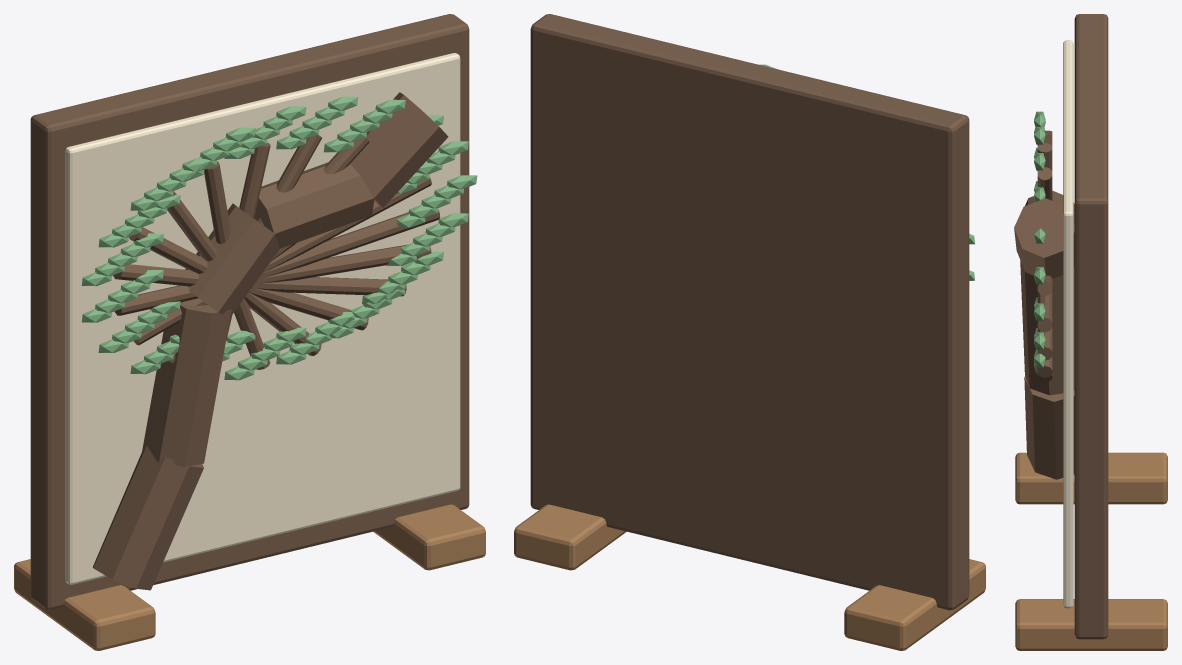
The model's file is noh_stage_pine_panel.glb.
The picture shows the model from 3 angles, left to right: view 1: azimuth 30°, elevation 25°; view 2: azimuth 150°, elevation 25°; view 3: azimuth 270°, elevation 25°; orthographic projection. The views are drawn at different scales.
Visible parts, largest first — view 1: Noh stage painted kagamiita gold-tinted washed plaster, Noh stage painted kagamiita broad cedar frame, Noh stage painted kagamiita ancient bent pine trunk_01, Noh stage painted kagamiita ancient bent pine trunk_00, Noh stage painted kagamiita ancient bent pine trunk_03, Noh stage painted kagamiita support foot, Noh stage painted kagamiita ancient bent pine trunk_04, Noh stage painted kagamiita ancient bent pine trunk_02, Noh stage painted kagamiita support foot.001, Noh stage painted kagamiita sprawling pine branch, Noh stage painted kagamiita sprawling pine branch.018, Noh stage painted kagamiita sprawling pine branch.017 (+13 smaller); view 2: Noh stage painted kagamiita broad cedar frame, Noh stage painted kagamiita support foot, Noh stage painted kagamiita support foot.001; view 3: Noh stage painted kagamiita broad cedar frame, Noh stage painted kagamiita support foot.001, Noh stage painted kagamiita gold-tinted washed plaster, Noh stage painted kagamiita support foot, Noh stage painted kagamiita ancient bent pine trunk_01, Noh stage painted kagamiita ancient bent pine trunk_00, Noh stage painted kagamiita ancient bent pine trunk_04, Noh stage painted kagamiita sprawling pine branch, Noh stage painted kagamiita sprawling pine branch.004, Noh stage painted kagamiita sprawling pine branch.018, Noh stage painted kagamiita sprawling pine branch.005.
Boxes of the visible parts, <box> form: Noh stage painted kagamiita gold-tinted washed plaster: <box>65,53,460,584</box>; Noh stage painted kagamiita broad cedar frame: <box>30,14,469,610</box>; Noh stage painted kagamiita ancient bent pine trunk_01: <box>142,303,231,466</box>; Noh stage painted kagamiita ancient bent pine trunk_00: <box>93,446,203,590</box>; Noh stage painted kagamiita ancient bent pine trunk_03: <box>254,162,374,248</box>; Noh stage painted kagamiita support foot: <box>14,559,155,650</box>; Noh stage painted kagamiita ancient bent pine trunk_04: <box>350,92,448,207</box>; Noh stage painted kagamiita ancient bent pine trunk_02: <box>185,203,279,316</box>; Noh stage painted kagamiita support foot.001: <box>373,504,485,570</box>; Noh stage painted kagamiita sprawling pine branch: <box>258,209,439,278</box>; Noh stage painted kagamiita sprawling pine branch.018: <box>254,244,431,284</box>; Noh stage painted kagamiita sprawling pine branch.017: <box>252,277,406,296</box>; Noh stage painted kagamiita broad cedar frame: <box>530,14,969,610</box>; Noh stage painted kagamiita support foot: <box>844,559,985,650</box>; Noh stage painted kagamiita support foot.001: <box>514,504,626,570</box>; Noh stage painted kagamiita broad cedar frame: <box>1074,14,1108,639</box>; Noh stage painted kagamiita support foot.001: <box>1015,599,1167,650</box>; Noh stage painted kagamiita gold-tinted washed plaster: <box>1063,40,1073,608</box>; Noh stage painted kagamiita support foot: <box>1015,452,1167,504</box>; Noh stage painted kagamiita ancient bent pine trunk_01: <box>1020,260,1074,395</box>; Noh stage painted kagamiita ancient bent pine trunk_00: <box>1024,376,1074,479</box>; Noh stage painted kagamiita ancient bent pine trunk_04: <box>1014,198,1074,278</box>; Noh stage painted kagamiita sprawling pine branch: <box>1037,291,1052,332</box>; Noh stage painted kagamiita sprawling pine branch.004: <box>1037,167,1052,200</box>; Noh stage painted kagamiita sprawling pine branch.018: <box>1037,328,1052,360</box>; Noh stage painted kagamiita sprawling pine branch.005: <box>1037,142,1052,170</box>.
Bounding box in the file's own units: 1.71 × 1.95 × 0.5919.
